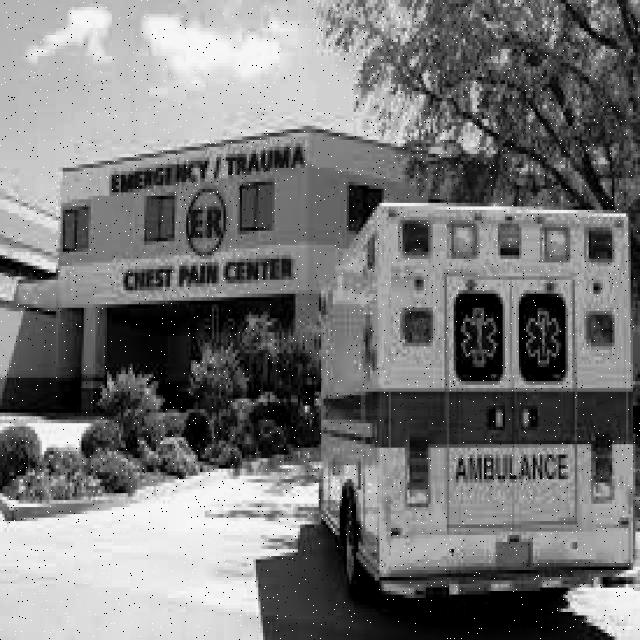LCV: (379, 202, 632, 586)
